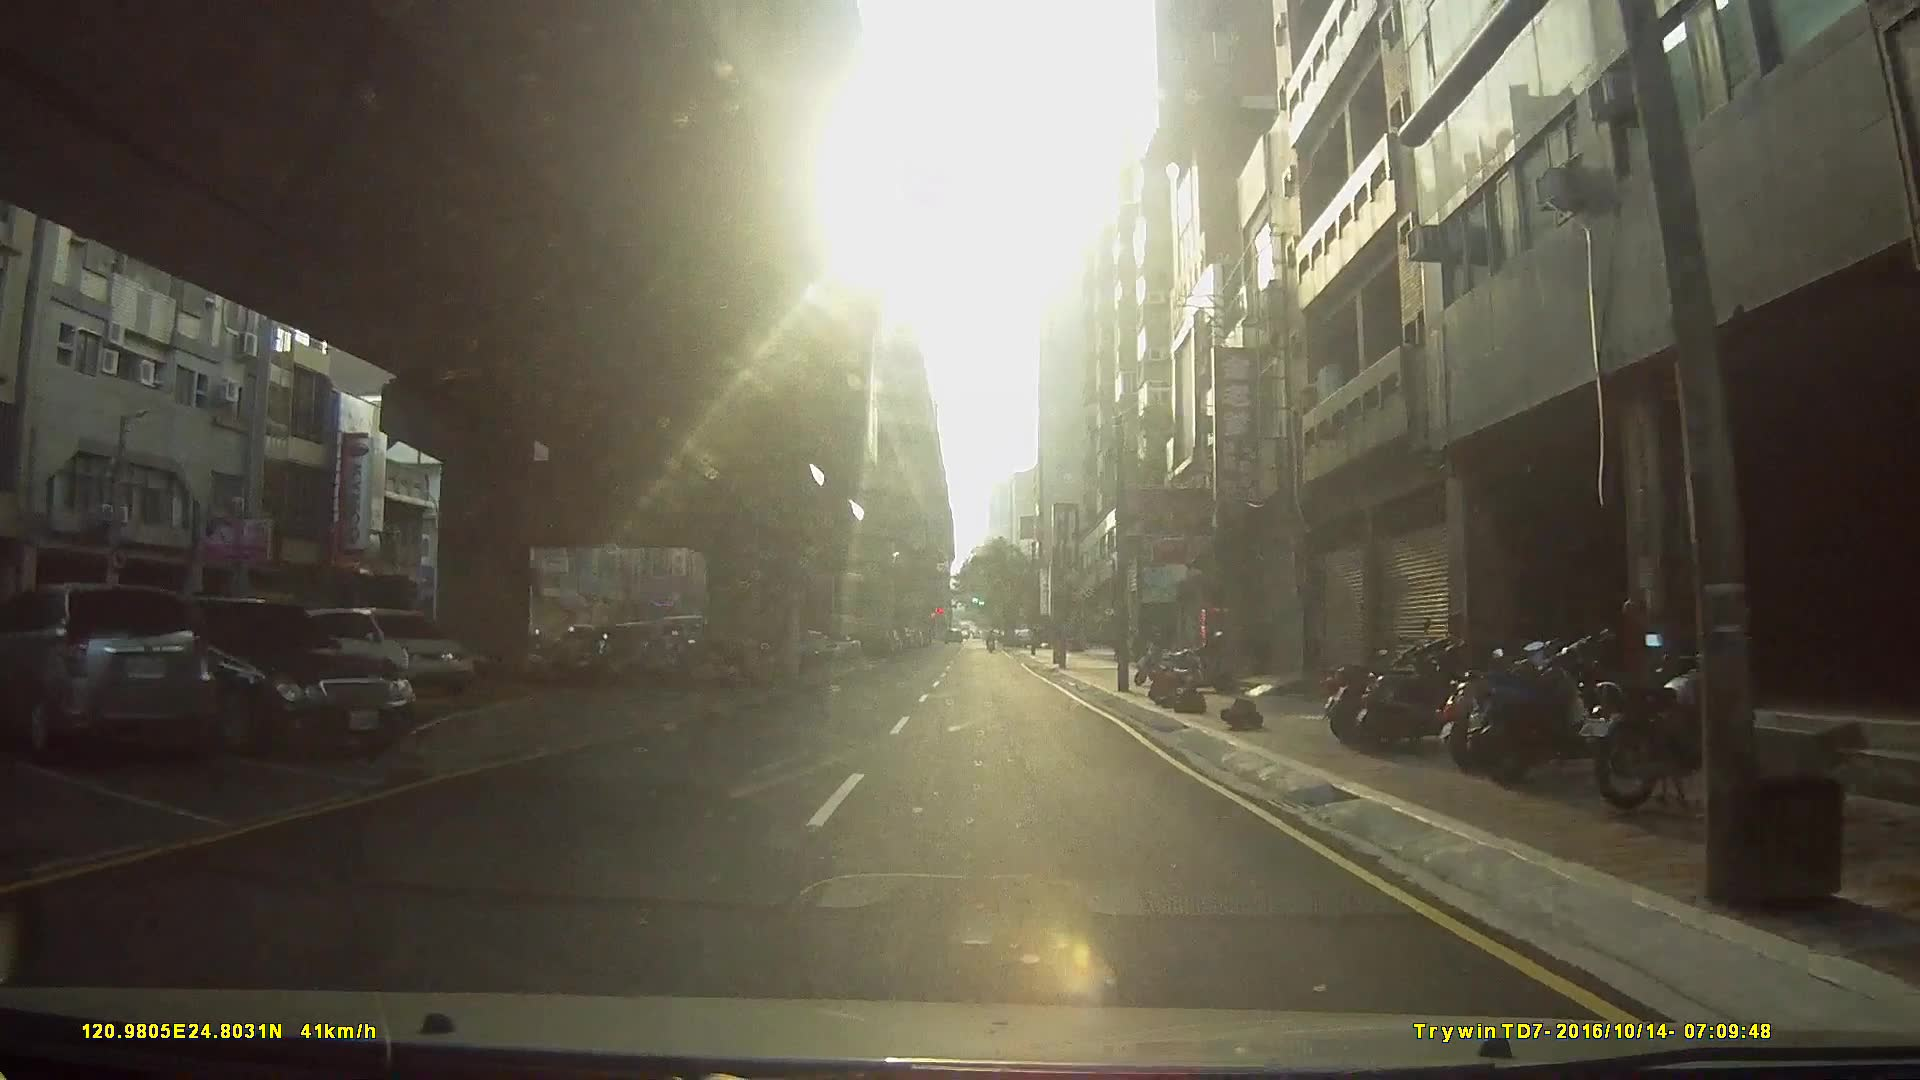vehicle: (109, 592, 411, 753), (7, 582, 208, 766), (299, 604, 469, 694)
